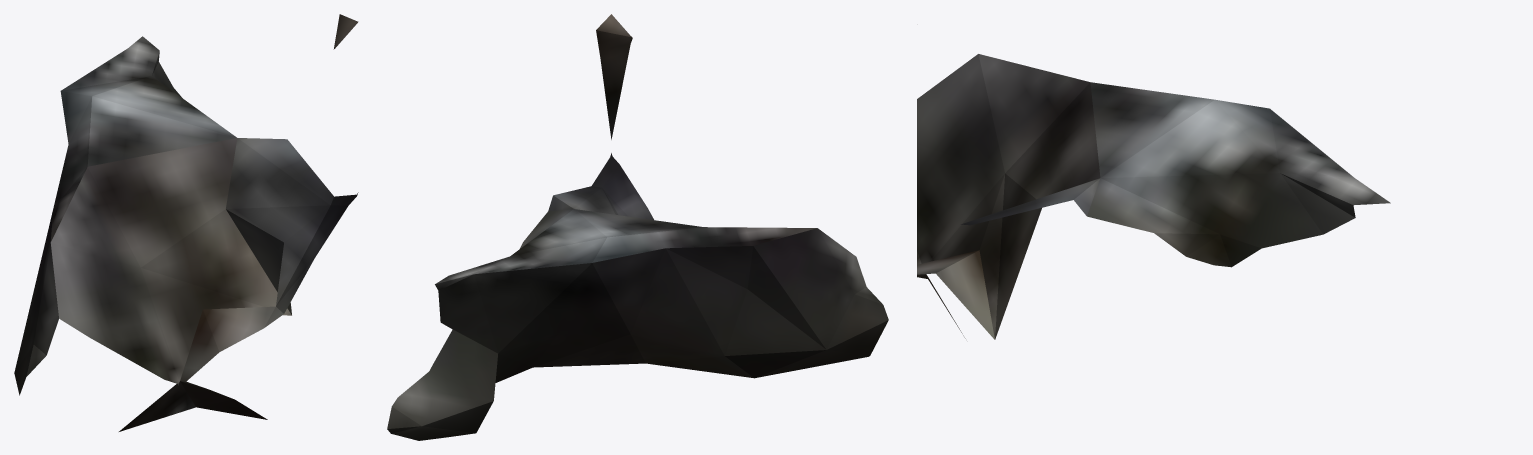
The picture shows the model from 3 angles, left to right: view 1: azimuth 30°, elevation 25°; view 2: azimuth 150°, elevation 25°; view 3: azimuth 270°, elevation 25°; orthographic projection. The views are drawn at different scales.
Bounding box in the file's own units: 0.1941 × 0.2128 × 0.2718.
1 material, 1 textured.
